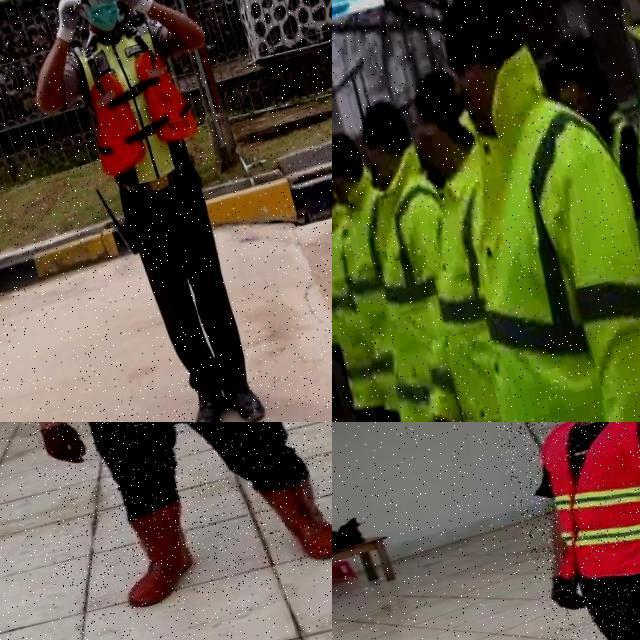boots: (107, 502, 203, 610), (248, 465, 332, 572), (225, 370, 280, 422), (177, 377, 237, 422)
vest: (403, 23, 640, 422), (363, 125, 566, 422), (332, 134, 502, 422), (552, 0, 640, 422), (64, 8, 213, 198), (332, 163, 424, 411), (528, 422, 640, 588), (332, 198, 400, 418)
